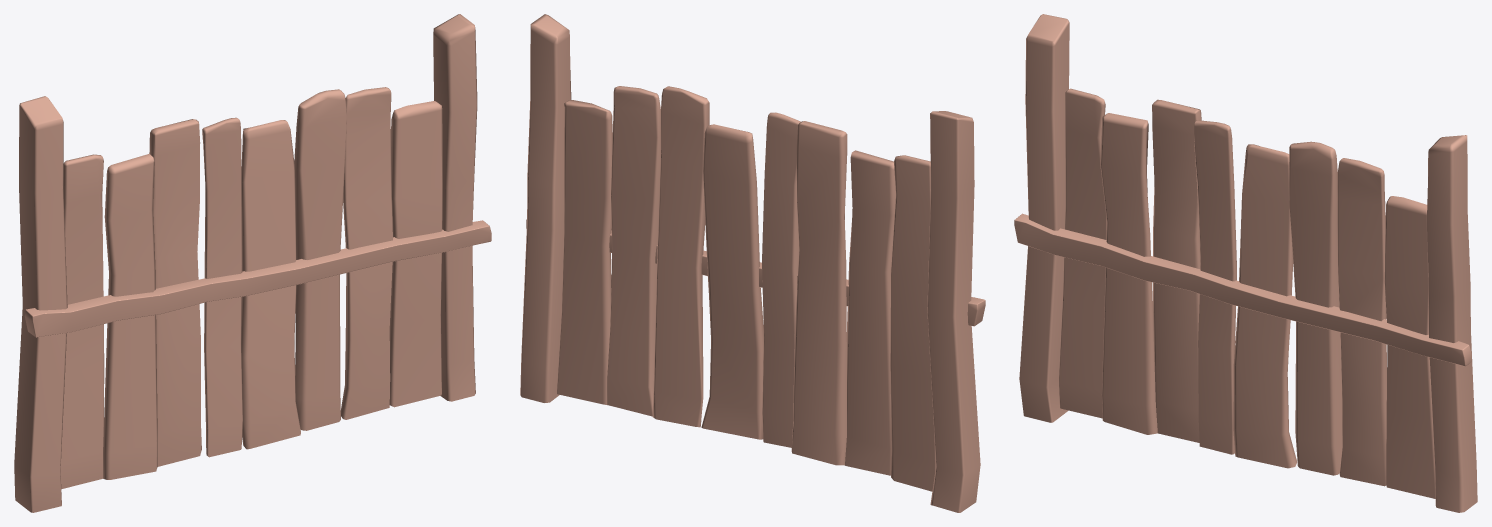
The model's file is prop_fence_02.glb.
3 views of the same model, side by side, from view 1: azimuth 30°, elevation 25°; view 2: azimuth 150°, elevation 25°; view 3: azimuth 330°, elevation 25° (orthographic).
Parts seen in each view (by area): view 1: prop_fence_03; view 2: prop_fence_03; view 3: prop_fence_03.
Part boxes in pixels (x1,y1,x2,y2): prop_fence_03: (14, 14, 491, 512); prop_fence_03: (520, 14, 985, 512); prop_fence_03: (1014, 14, 1477, 512).
Size of the model in its own units: 2.83 by 2.34 by 0.2518.
